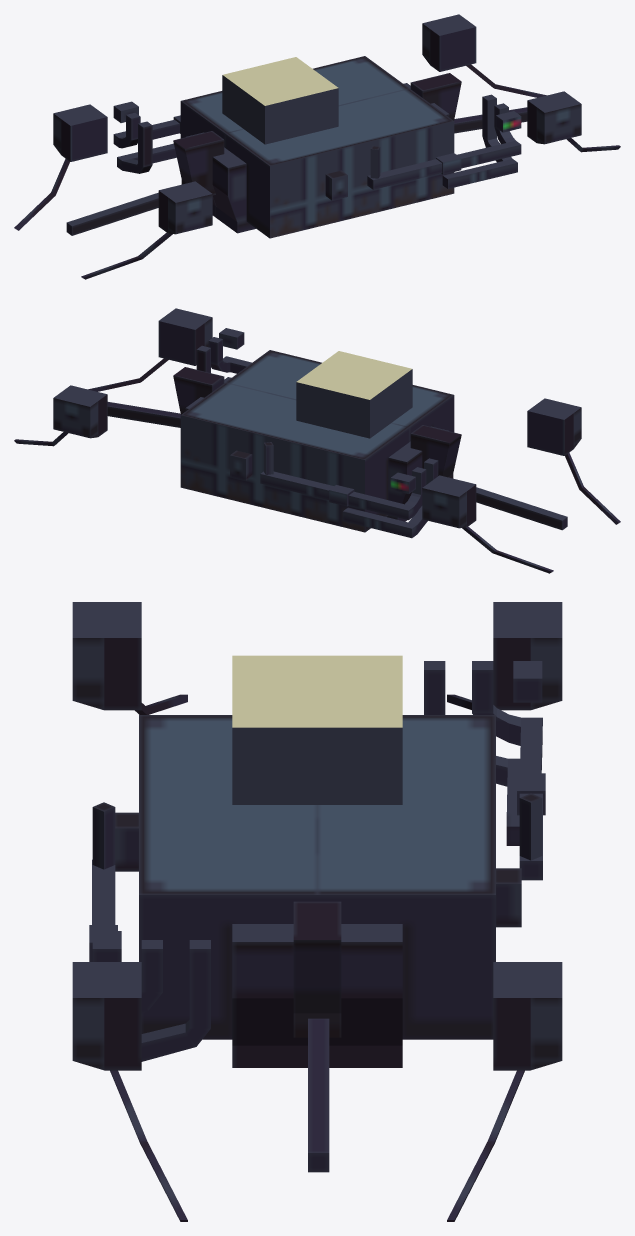
Rendered from hxd3d_underbody_equip.obj.
3 renders of one model, top to bottom at view 1: azimuth 30°, elevation 25°; view 2: azimuth 150°, elevation 25°; view 3: azimuth 270°, elevation 25°, orthographic. The views are drawn at different scales.
Parts seen in each view (by area): view 1: cube_selection_selection; view 2: cube_selection_selection; view 3: cube_selection_selection.
Part boxes in pixels (bbox=[...]): cube_selection_selection: bbox=[14, 14, 620, 279]; cube_selection_selection: bbox=[14, 308, 620, 573]; cube_selection_selection: bbox=[72, 602, 562, 1221].
Bounding box in the file's own units: 7.3 × 1.56 × 2.88.
